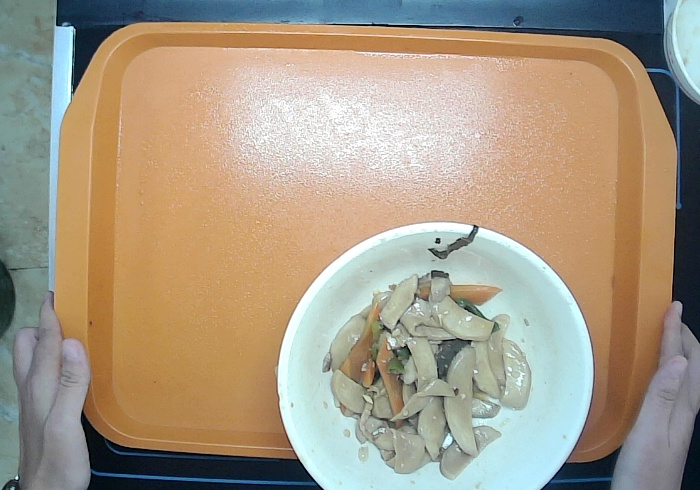ZNLD-Da_Tang_Wan: (276, 220, 592, 490)
